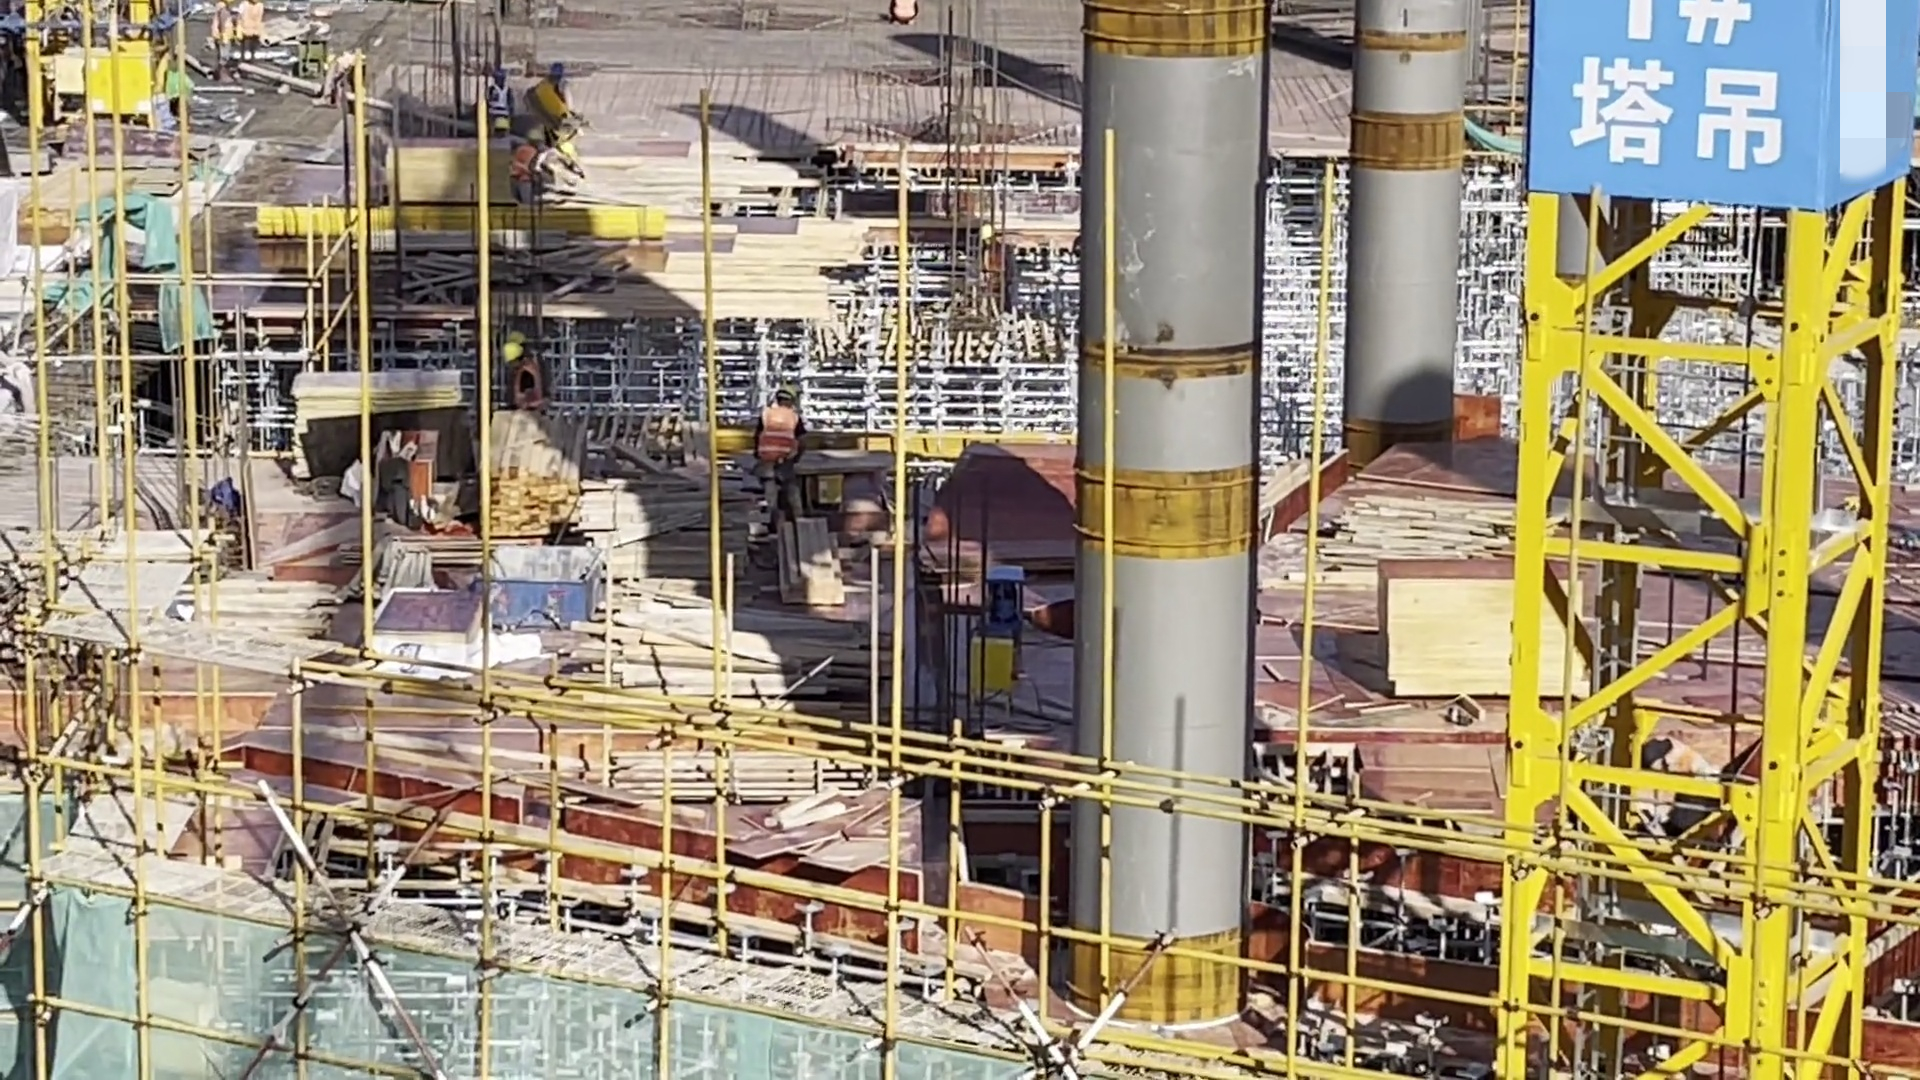board: (1379, 553, 1582, 710), (288, 370, 463, 478), (387, 135, 518, 209)
helmet: (501, 342, 527, 372), (774, 383, 801, 407), (522, 131, 550, 148), (494, 66, 508, 81)
hopper: (487, 542, 608, 638)
person: (755, 377, 808, 538), (498, 330, 554, 426), (509, 129, 562, 201), (234, 1, 274, 61), (488, 59, 516, 147), (880, 1, 922, 33)
slogan: (1537, 1, 1865, 201)
vest: (756, 405, 802, 468), (515, 359, 544, 413), (512, 143, 540, 183), (241, 2, 265, 45), (490, 80, 513, 121)
wood: (569, 575, 886, 702), (484, 399, 596, 537), (775, 513, 845, 613)
